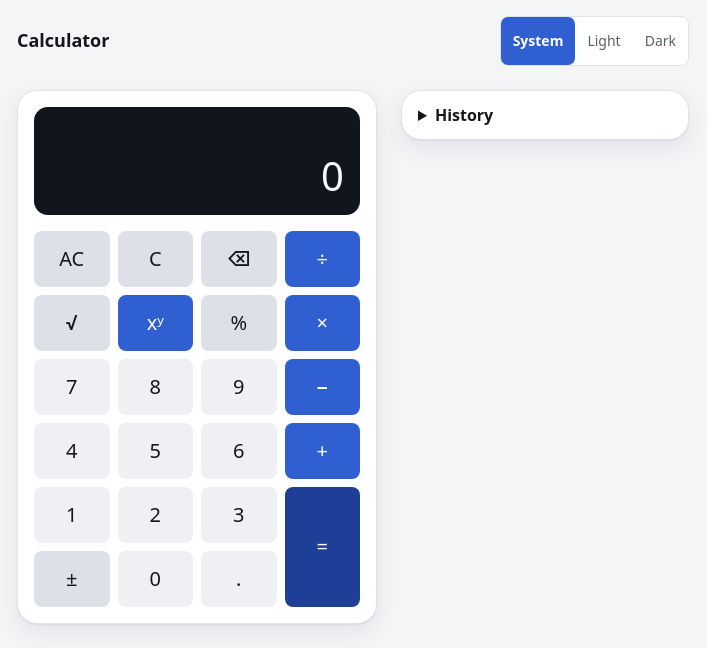
App structure › runs a calculation end to end through the real hooks
What coordinates should you click on to do the following:
click the button "2"
I would click on:
 (155, 515)
Its box is [118, 487, 193, 543].
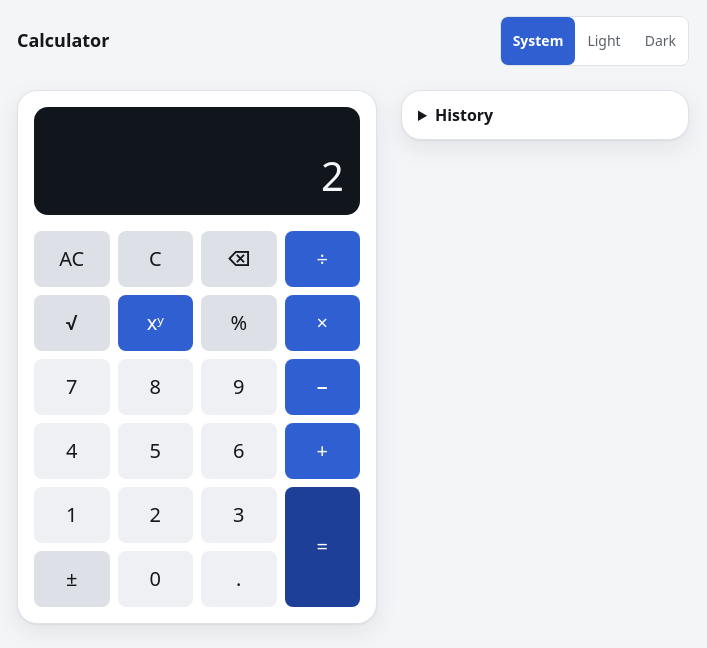
What coordinates should you click on to do the following:
click the button named "add"
I would click on:
 (322, 451)
Its box is [284, 423, 360, 479].
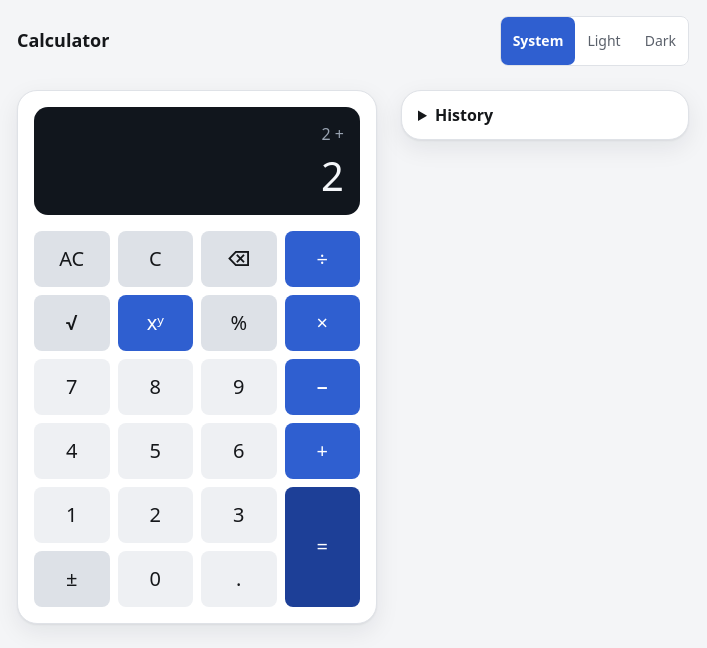
What coordinates should you click on to do the following:
click the button "3"
I would click on:
 (239, 515)
Its box is [201, 487, 276, 543].
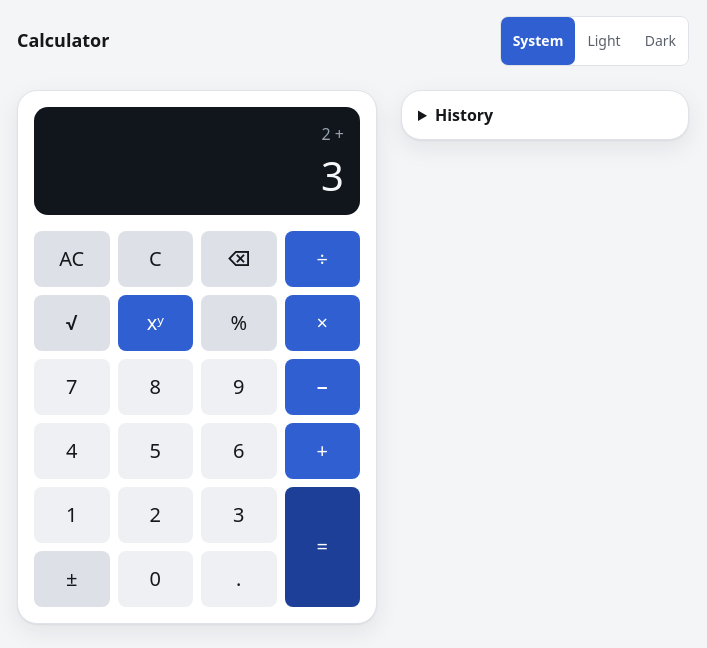
What coordinates should you click on to do the following:
click the button named "equals"
I would click on:
 (322, 547)
Its box is [284, 487, 360, 607].
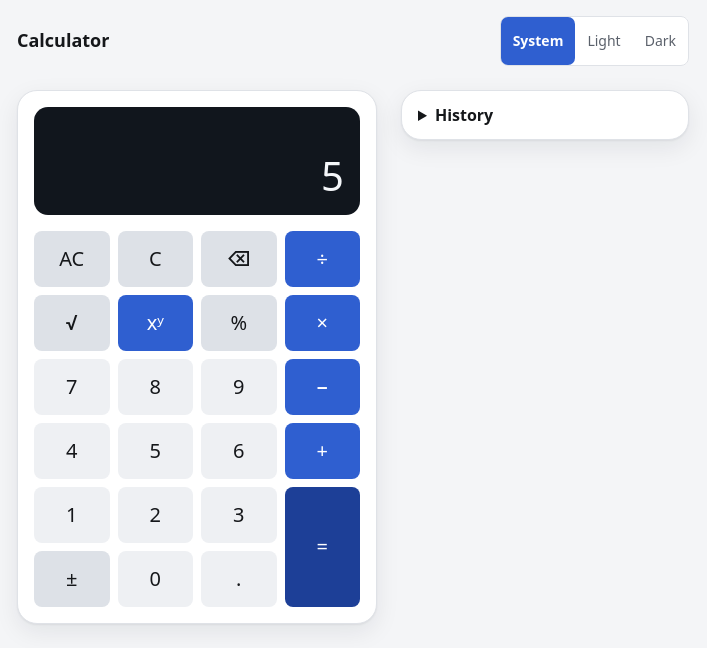
Check: the element named "Result" reads "5", box [321, 148, 344, 203]
